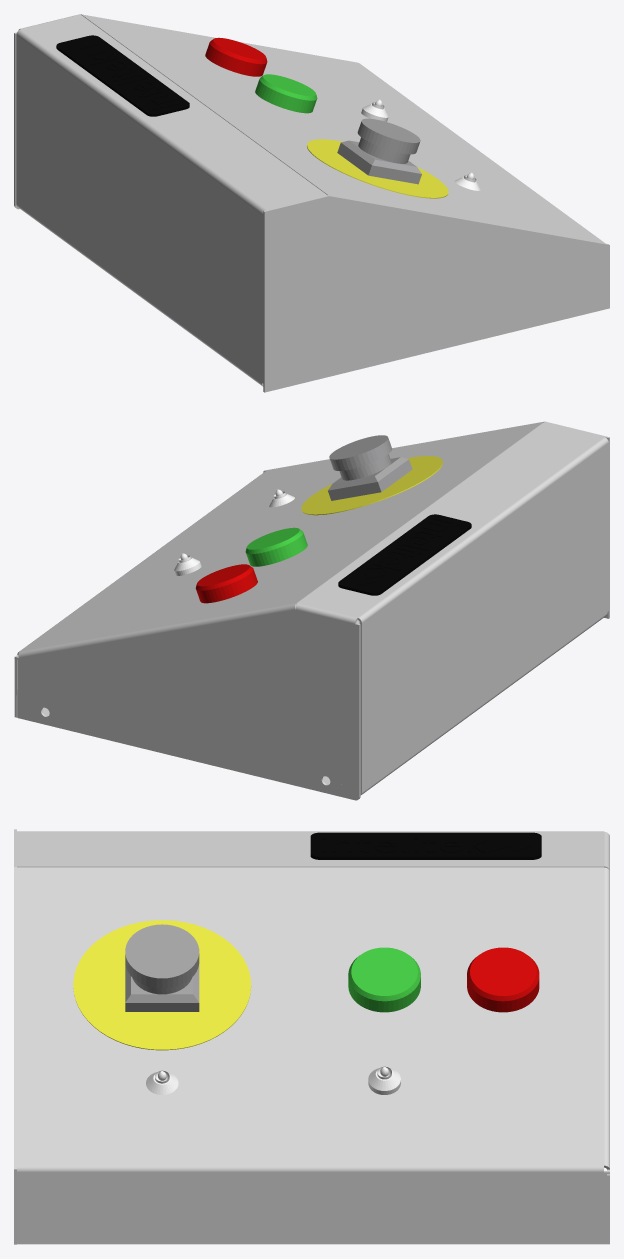
File: CIMConveyorControlBox.fbx
3 views of the same model, one above another, from view 1: azimuth 30°, elevation 25°; view 2: azimuth 150°, elevation 25°; view 3: azimuth 270°, elevation 25° (orthographic). The views are drawn at different scales.
Visible parts, largest first — view 1: 410843_RAFIX16 Push Button Red001; view 2: 410843_RAFIX16 Push Button Red001; view 3: 410843_RAFIX16 Push Button Red001.
Boxes of the visible parts, x1,y1,x2,y2 form: 410843_RAFIX16 Push Button Red001: (14, 14, 609, 392); 410843_RAFIX16 Push Button Red001: (14, 421, 609, 800); 410843_RAFIX16 Push Button Red001: (14, 829, 609, 1244).
Bounding box in the file's own units: 16 × 8.13 × 20.1.
